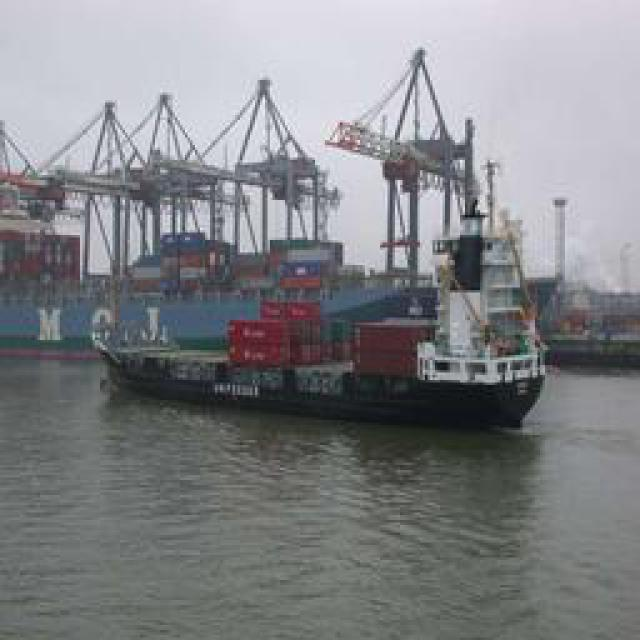Ship: (93, 275, 553, 431)
